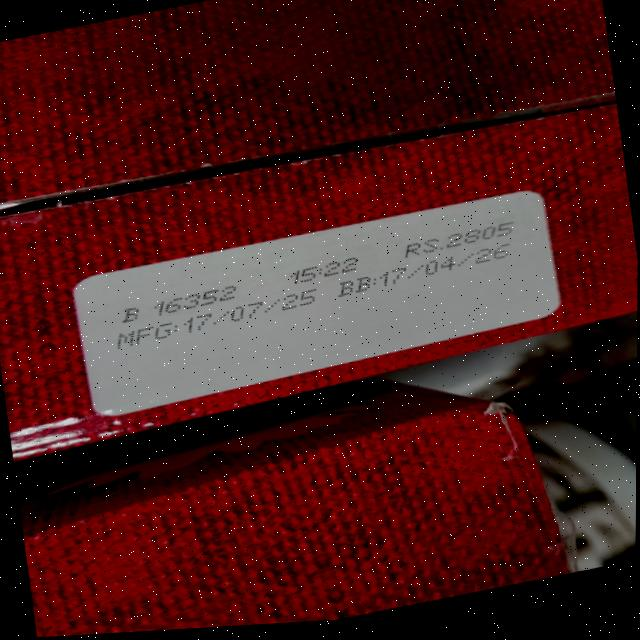BB: (335, 239, 522, 301)
Batch: (119, 283, 245, 325)
MFG: (111, 288, 328, 350)
RS: (400, 220, 521, 261)
TimeStamp: (287, 253, 373, 286)
